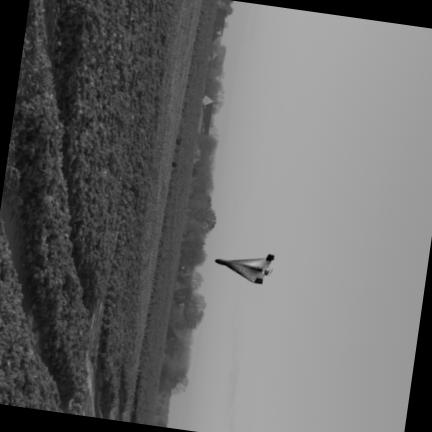Shahed: (213, 254, 273, 283)
